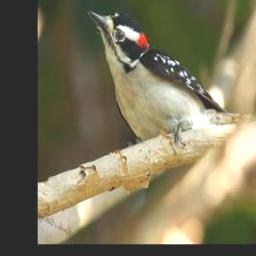Woodpecker: (87, 1, 256, 151)
